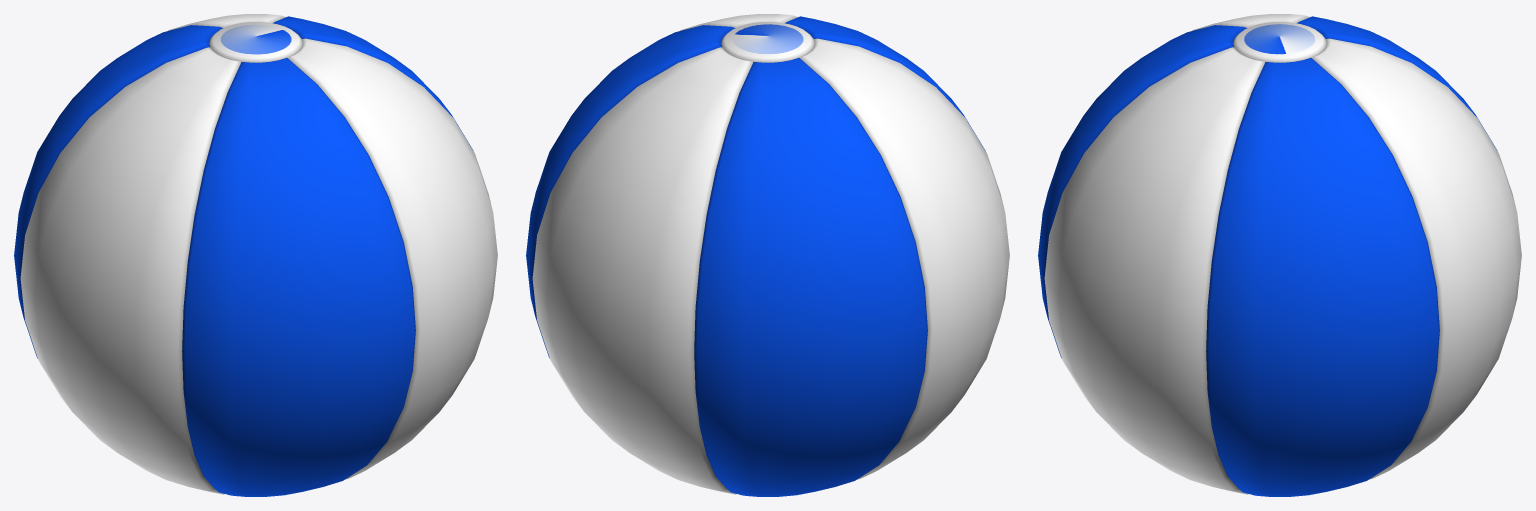
Rendered from beachball.glb.
3 views of the same model, side by side, from view 1: azimuth 30°, elevation 25°; view 2: azimuth 150°, elevation 25°; view 3: azimuth 270°, elevation 25° (orthographic).
Visible parts, largest first — view 1: Sphere; view 2: Sphere; view 3: Sphere.
Part boxes in pixels (bbox=[...]): Sphere: bbox=[14, 14, 497, 496]; Sphere: bbox=[526, 14, 1009, 496]; Sphere: bbox=[1038, 14, 1521, 496].
Bounding box in the file's own units: 1.99 × 2 × 2.
Materials: 1 (1 with a texture image).
